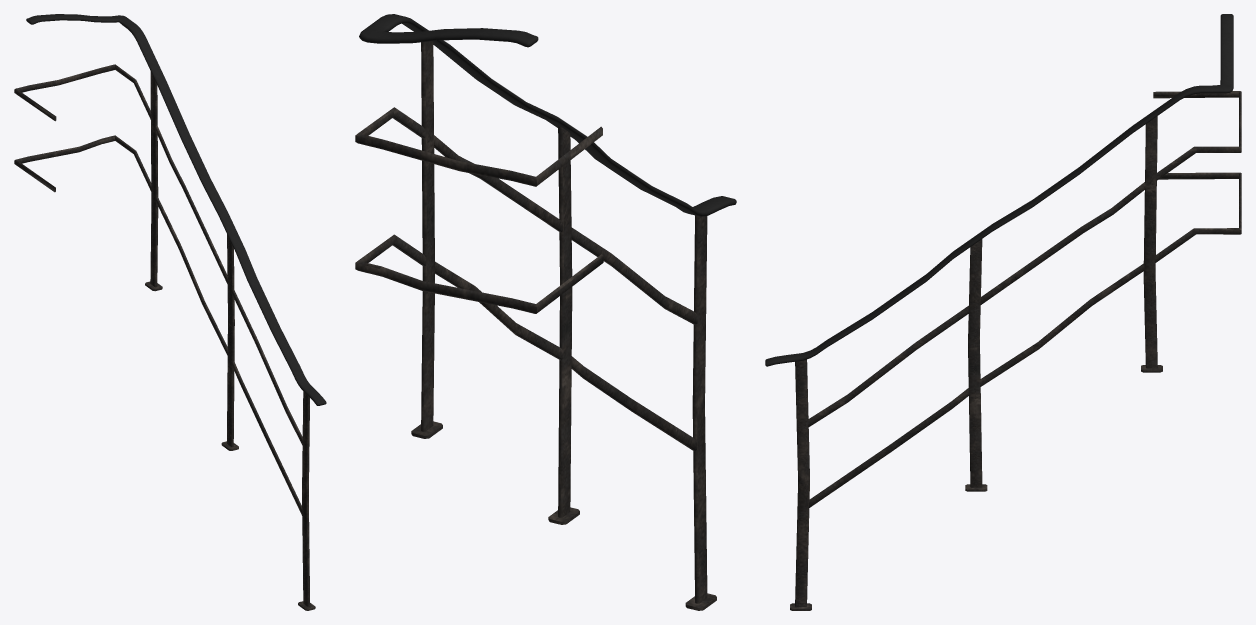
Rendered from hand_rail_2.obj.
3 renders of one model, left to right at view 1: azimuth 30°, elevation 25°; view 2: azimuth 150°, elevation 25°; view 3: azimuth 270°, elevation 25°, orthographic. The views are drawn at different scales.
Visible parts, largest first — view 1: hand_rail_2; view 2: hand_rail_2; view 3: hand_rail_2.
Boxes of the visible parts, x1,y1,x2,y2 form: hand_rail_2: (14,14,326,610); hand_rail_2: (355,14,736,610); hand_rail_2: (765,14,1241,610).
Size of the model in its own units: 0.6361 by 2.74 by 2.17.
